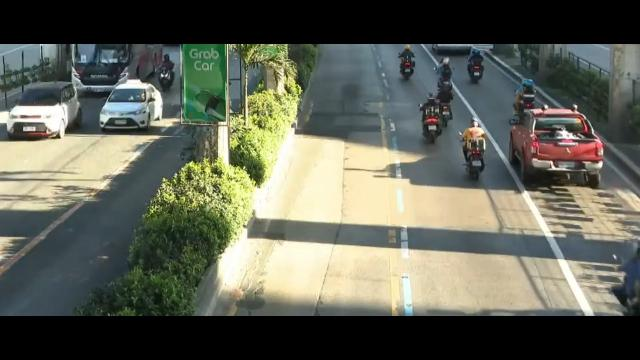bus: (71, 43, 159, 92)
car: (3, 79, 78, 140), (96, 82, 166, 136)
motorcycle: (461, 116, 489, 180), (418, 92, 444, 145), (512, 78, 537, 119), (436, 80, 455, 128), (158, 53, 176, 93), (466, 47, 484, 85), (435, 57, 454, 91), (398, 46, 416, 81)
pickup-truck: (509, 105, 605, 188)
